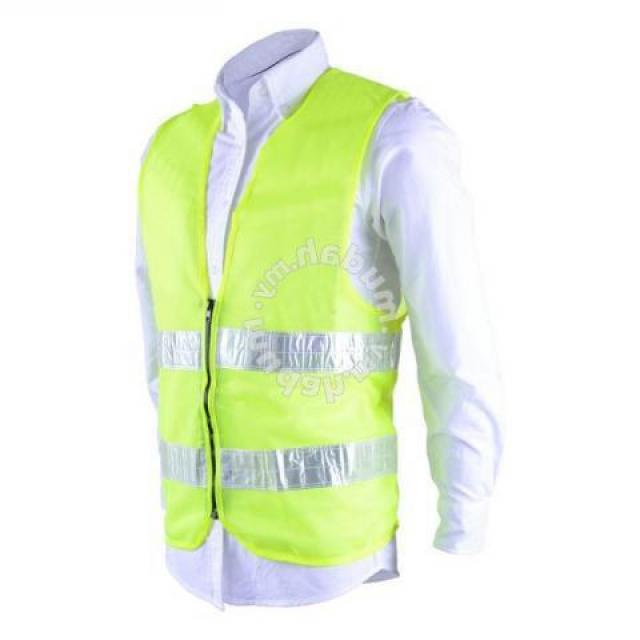Reflective-Jacket: (118, 60, 426, 595)
